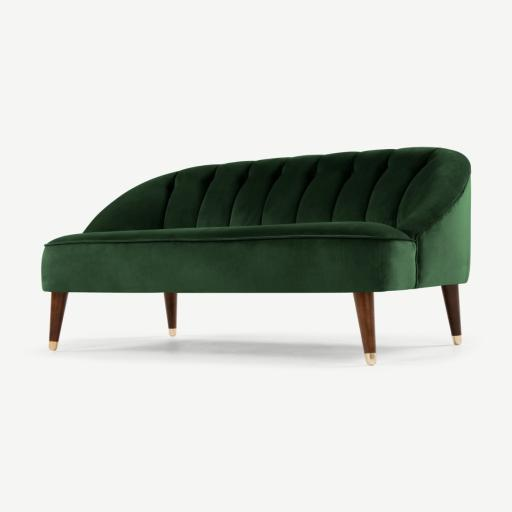back_cushion: (85, 148, 470, 236)
base: (42, 222, 415, 293)
left_arm: (417, 180, 470, 287)
legs: (354, 293, 376, 365), (49, 292, 67, 350), (443, 286, 460, 334), (164, 293, 177, 336)
one-seater: (42, 147, 470, 364)
seat_cushion: (46, 222, 411, 246)
